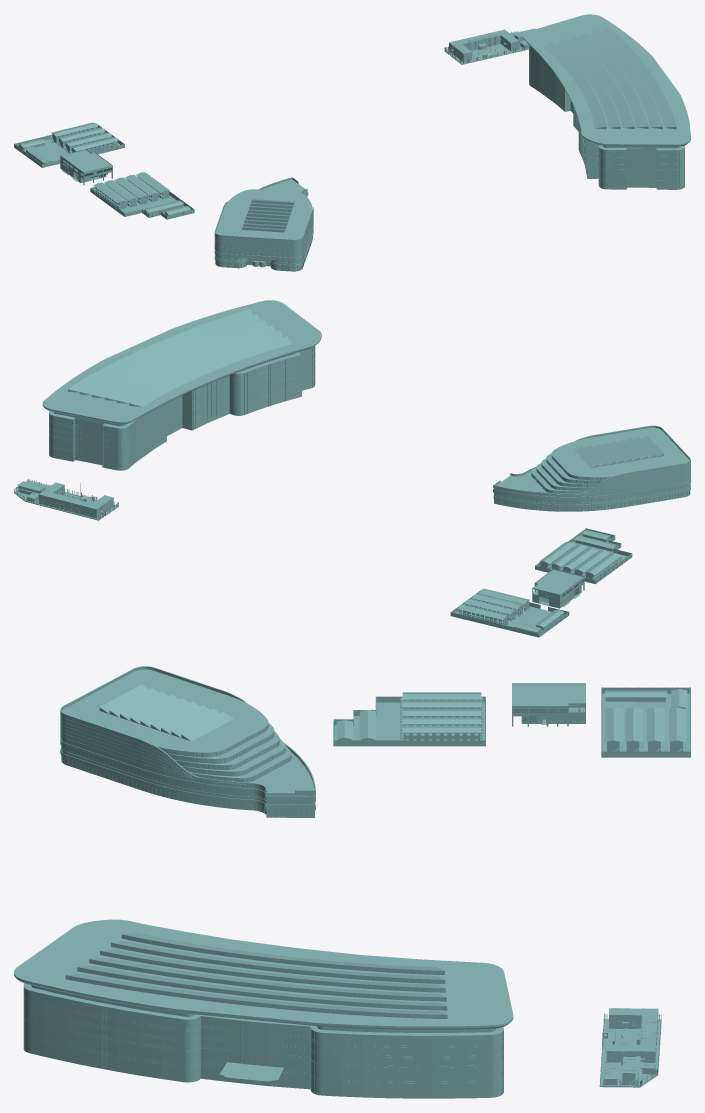
Rendered from imgs智能电表项目-单体临设-processed.glb.
3 views of the same model, one above another, from view 1: azimuth 30°, elevation 25°; view 2: azimuth 150°, elevation 25°; view 3: azimuth 270°, elevation 25° (orthographic). The views are drawn at different scales.
Parts seen in each view (by area): view 1: Line386, D管, 宿舍1, 宿舍2, 项目部, 消防站; view 2: Line386, D管, 宿舍2, 宿舍1, 项目部, 消防站; view 3: Line386, D管, 宿舍1, 宿舍2, 项目部, 消防站.
Part boxes in pixels (left/top/right/bottom): Line386: left=523, top=14, right=690, bottom=189; D管: left=214, top=177, right=313, bottom=271; 宿舍1: left=90, top=172, right=194, bottom=219; 宿舍2: left=14, top=122, right=124, bottom=167; 项目部: left=444, top=28, right=535, bottom=64; 消防站: left=60, top=149, right=112, bottom=185; Line386: left=42, top=300, right=321, bottom=470; D管: left=493, top=425, right=690, bottom=511; 宿舍2: left=450, top=588, right=569, bottom=637; 宿舍1: left=535, top=528, right=632, bottom=584; 项目部: left=14, top=479, right=118, bottom=520; 消防站: left=532, top=569, right=584, bottom=608; Line386: left=14, top=919, right=513, bottom=1098; D管: left=60, top=666, right=315, bottom=817; 宿舍1: left=333, top=692, right=485, bottom=746; 宿舍2: left=601, top=687, right=690, bottom=757; 项目部: left=599, top=1008, right=661, bottom=1087; 消防站: left=512, top=683, right=585, bottom=726.
Size of the model in its own units: 449 by 41.25 by 313.
